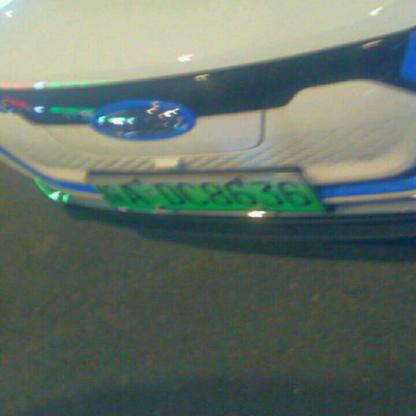lp: (90, 177, 324, 209)
